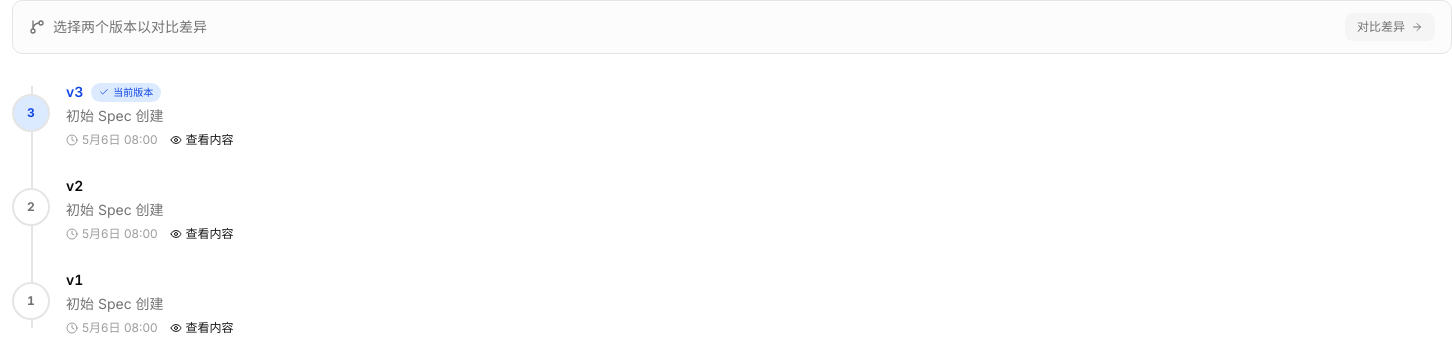
Test: VersionTimeline › Version selection › shows compare prompt when two versions selected
Click the button named "选择 v1": (31, 301) [12,282,50,320]
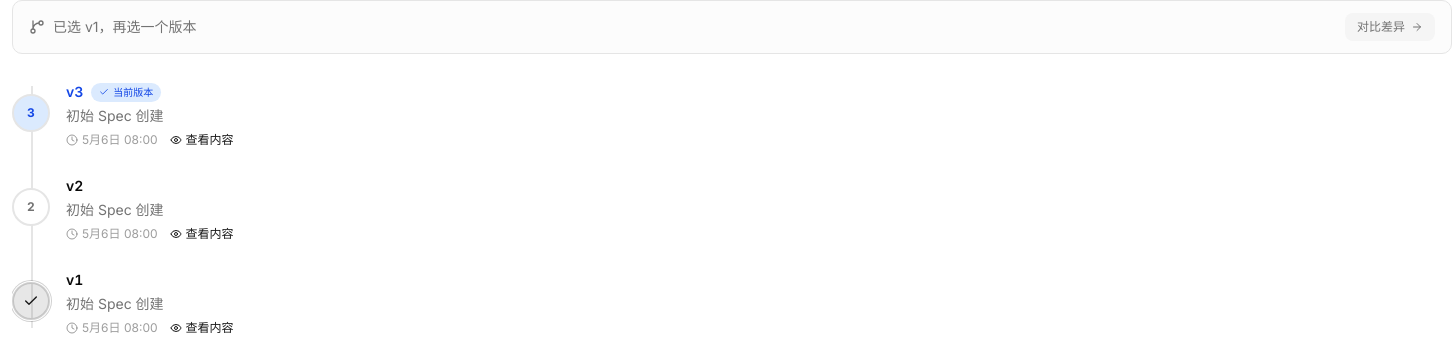
Click the button named "选择 v3": (31, 113) [12,94,50,132]
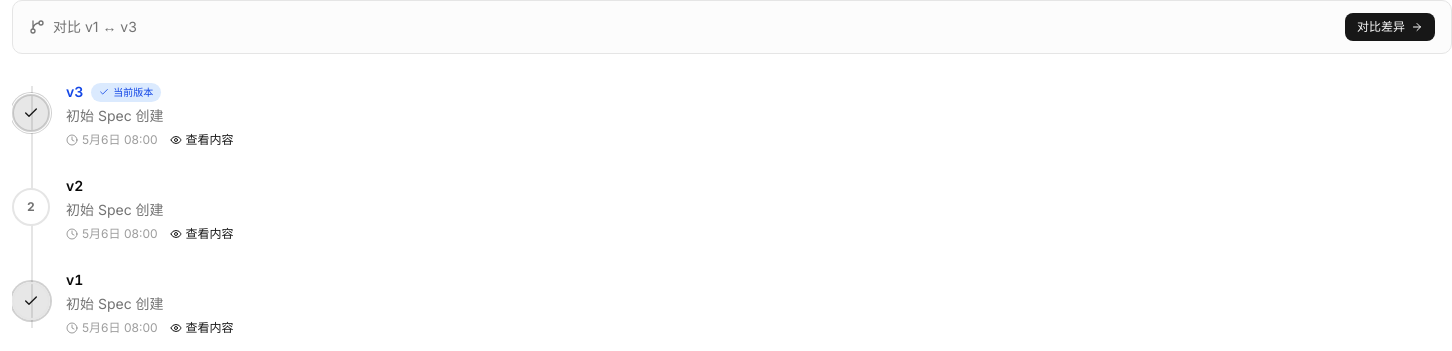
Check: the text "对比 v1 ↔ v3" is shown, box [53,17,137,37]
